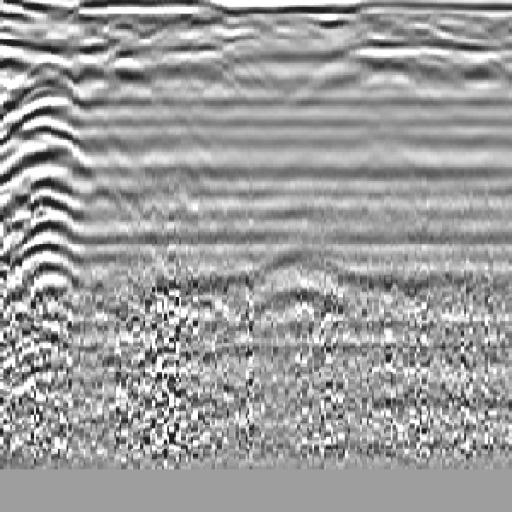metalic: (1, 48, 96, 365)
